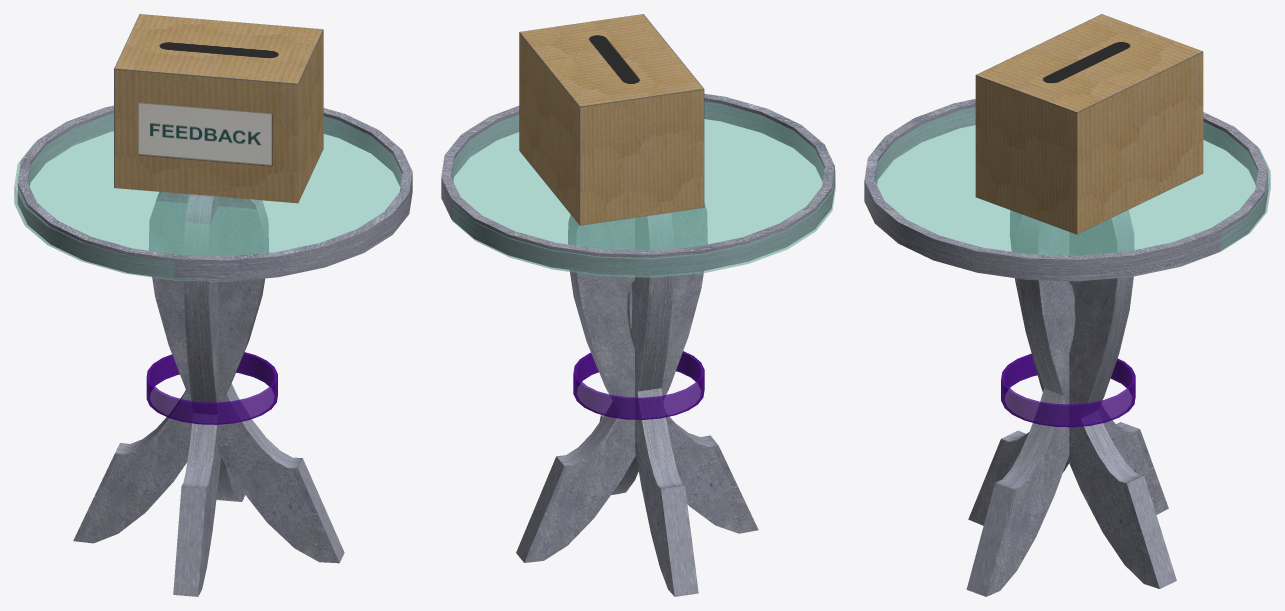
The model's file is Suggestion Box with Course Feedback Survey_148-154-023__a44b8efa-653a-4426-b161-71c97dfa1ad4.dae.
3 renders of one model, left to right at view 1: azimuth 30°, elevation 25°; view 2: azimuth 150°, elevation 25°; view 3: azimuth 270°, elevation 25°, orthographic. The views are drawn at different scales.
Parts seen in each view (by area): view 1: Primitive (×6), Suggestion Box with Course Feedback Survey, HighTopGlassTable; view 2: Primitive (×6), HighTopGlassTable, Suggestion Box with Course Feedback Survey; view 3: Primitive (×6), Suggestion Box with Course Feedback Survey, HighTopGlassTable.
Part boxes in pixels (x1,y1,x2,y2): Primitive (×6): (17, 105, 412, 596); Suggestion Box with Course Feedback Survey: (114, 14, 323, 203); HighTopGlassTable: (14, 113, 401, 281); Primitive (×6): (441, 93, 834, 596); HighTopGlassTable: (451, 101, 835, 277); Suggestion Box with Course Feedback Survey: (519, 14, 704, 225); Primitive (×6): (864, 99, 1268, 596); Suggestion Box with Course Feedback Survey: (975, 14, 1203, 234); HighTopGlassTable: (875, 107, 1270, 266).
Size of the model in its own units: 1.51 by 1.51 by 2.03.
